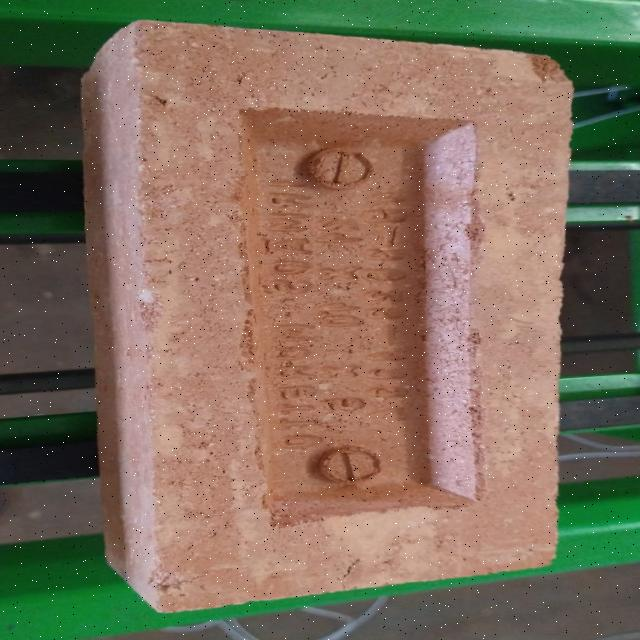bricks: (81, 19, 570, 613)
